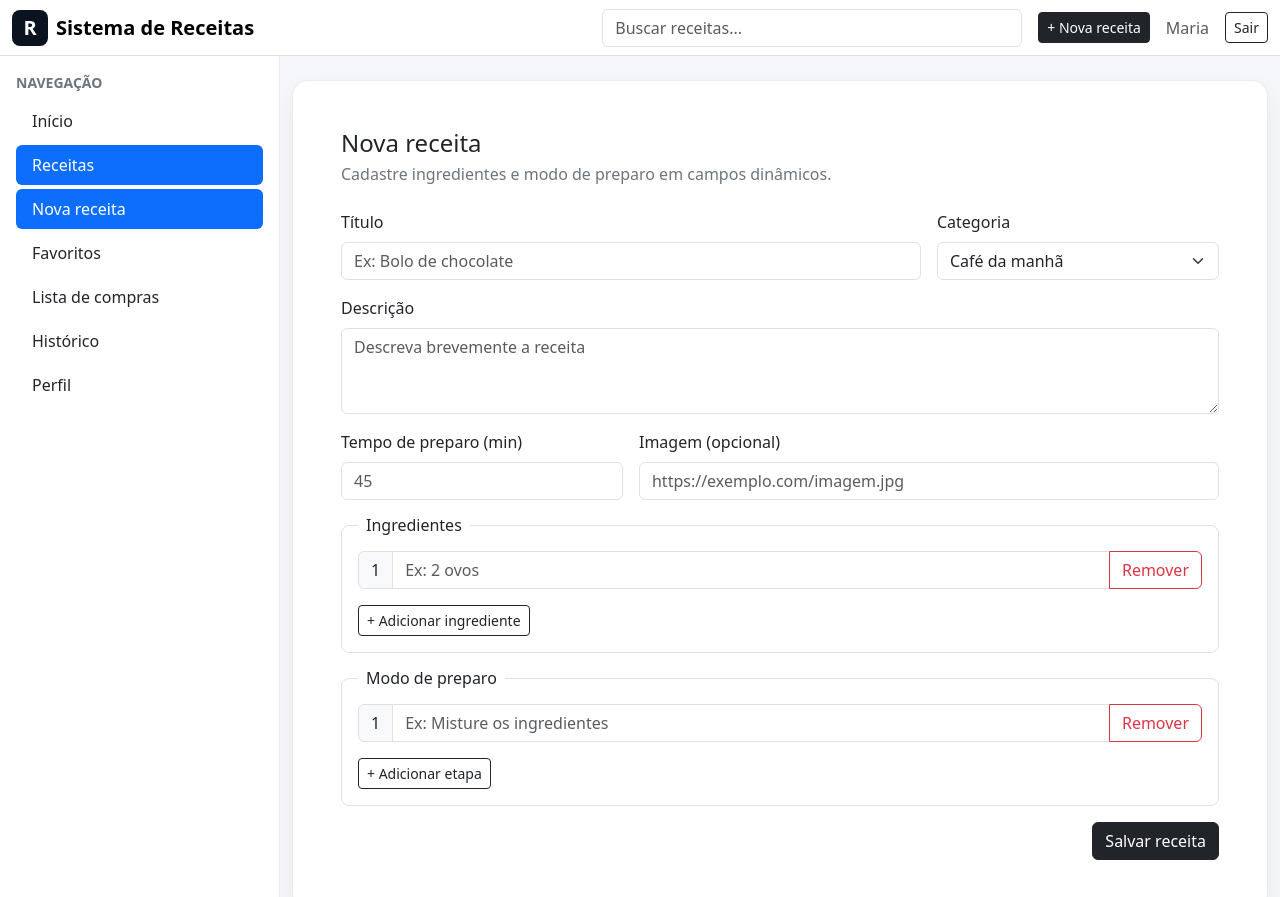
Test: recipe form › shows an error when recipe creation fails
The width and height of the screenshot is (1280, 897).
Type "Bolo simples" into the field labelled "Título" at point(631, 261), box [341, 242, 921, 280]
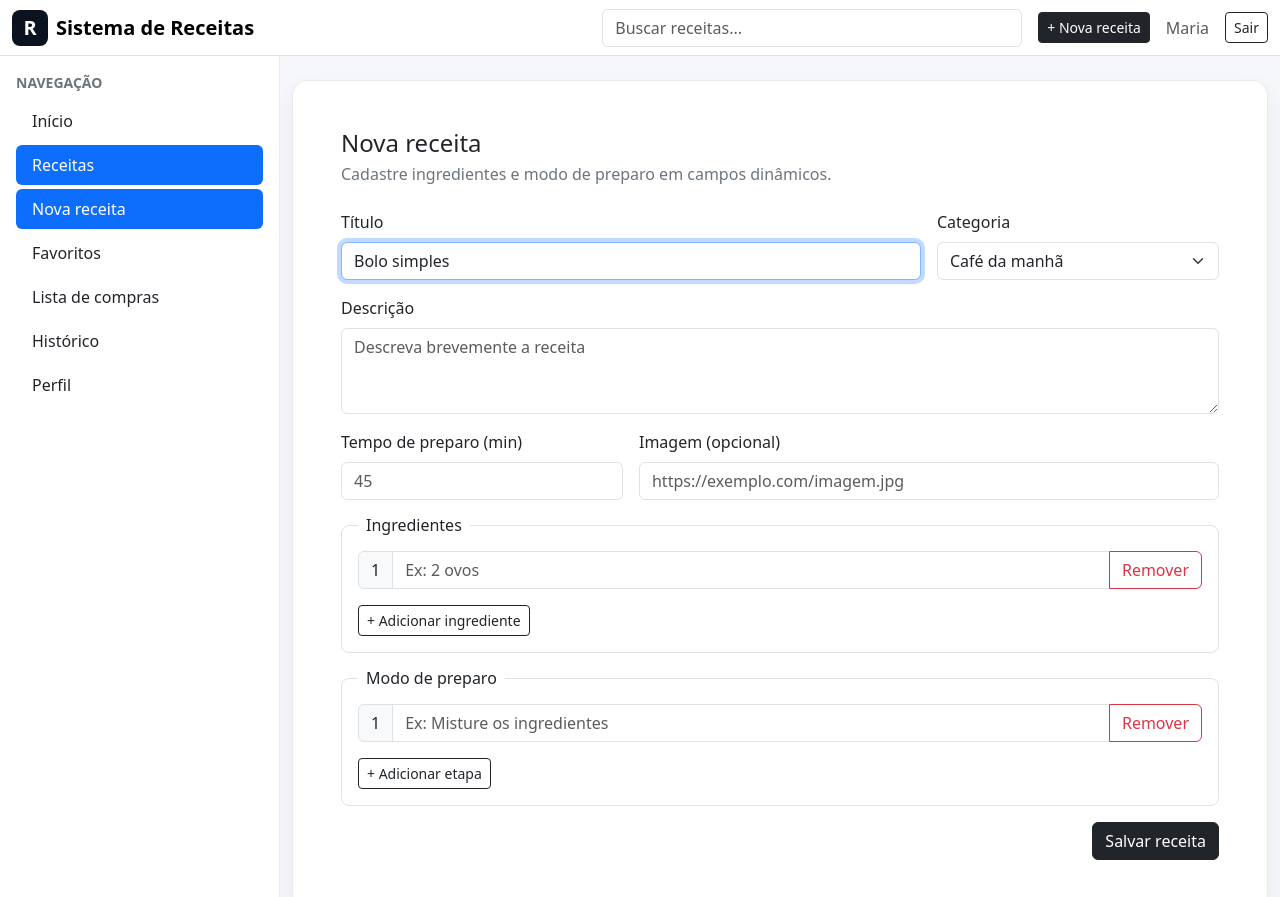
Type "Bolo fácil para o café." into the text box labelled "Descrição" at point(780, 371), box [341, 328, 1219, 414]
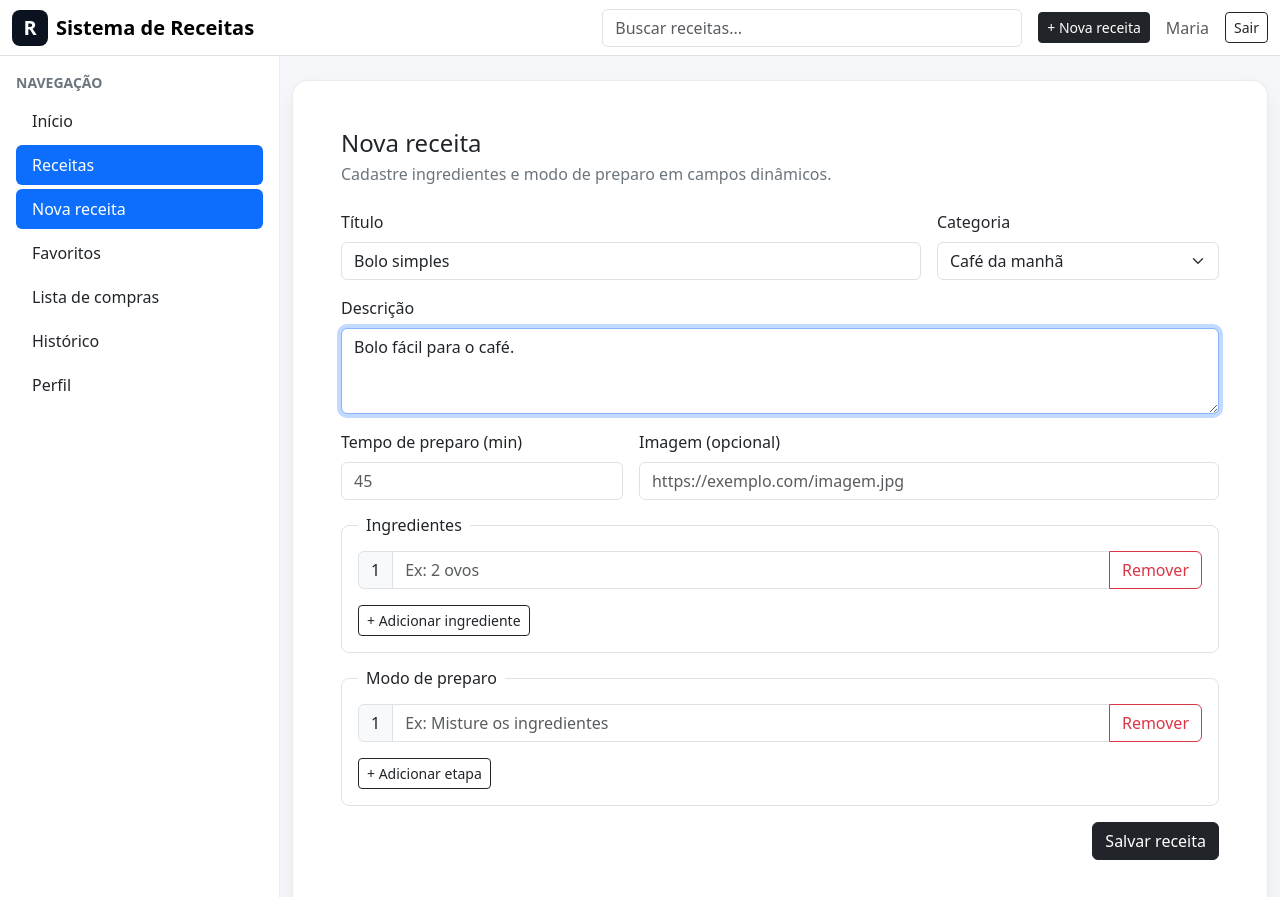
Type "30" into the number field labelled "Tempo de preparo (min)" at point(482, 481), box [341, 462, 623, 500]
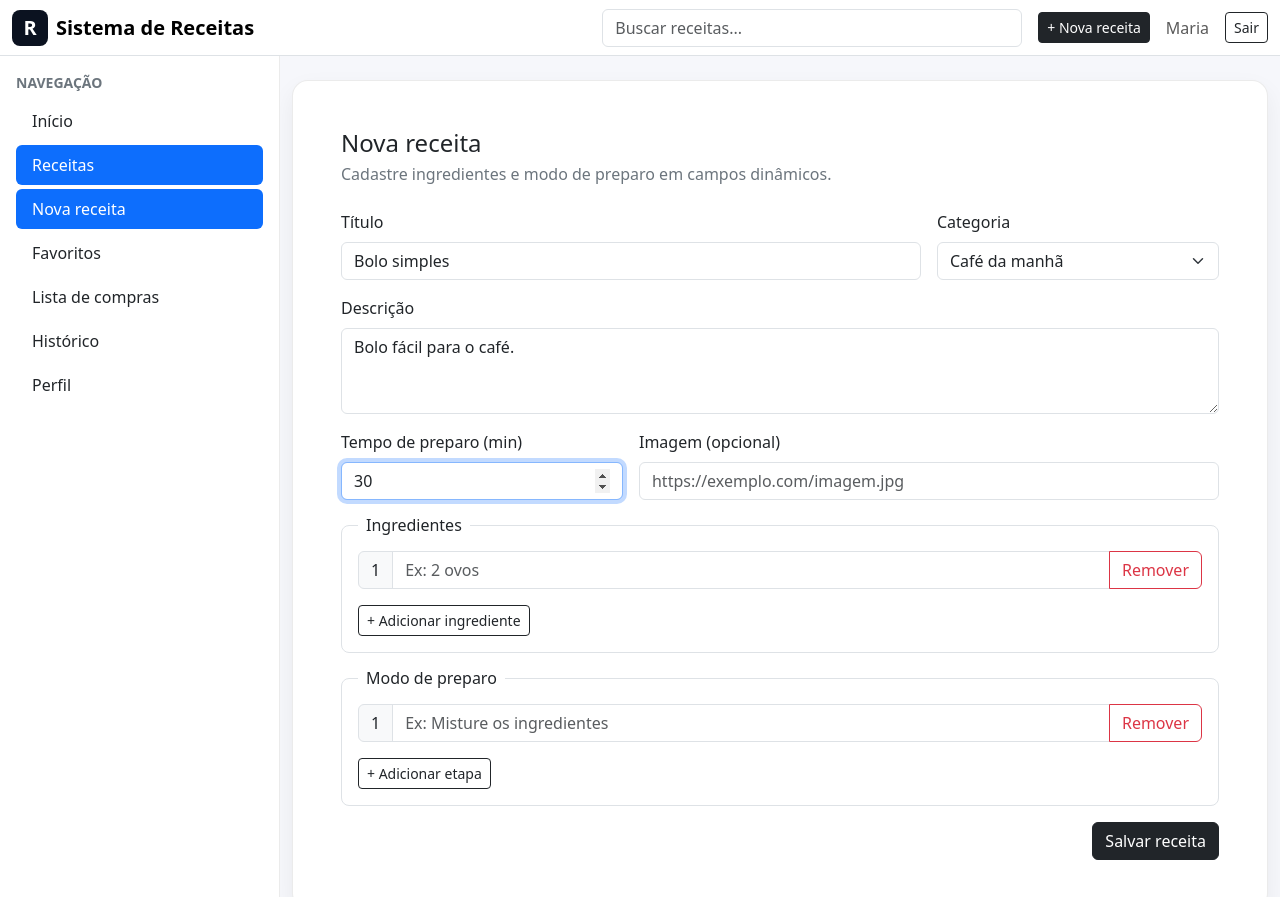
Type "2 ovos" into the field named "ingrediente 1" at point(751, 570), box [392, 551, 1110, 589]
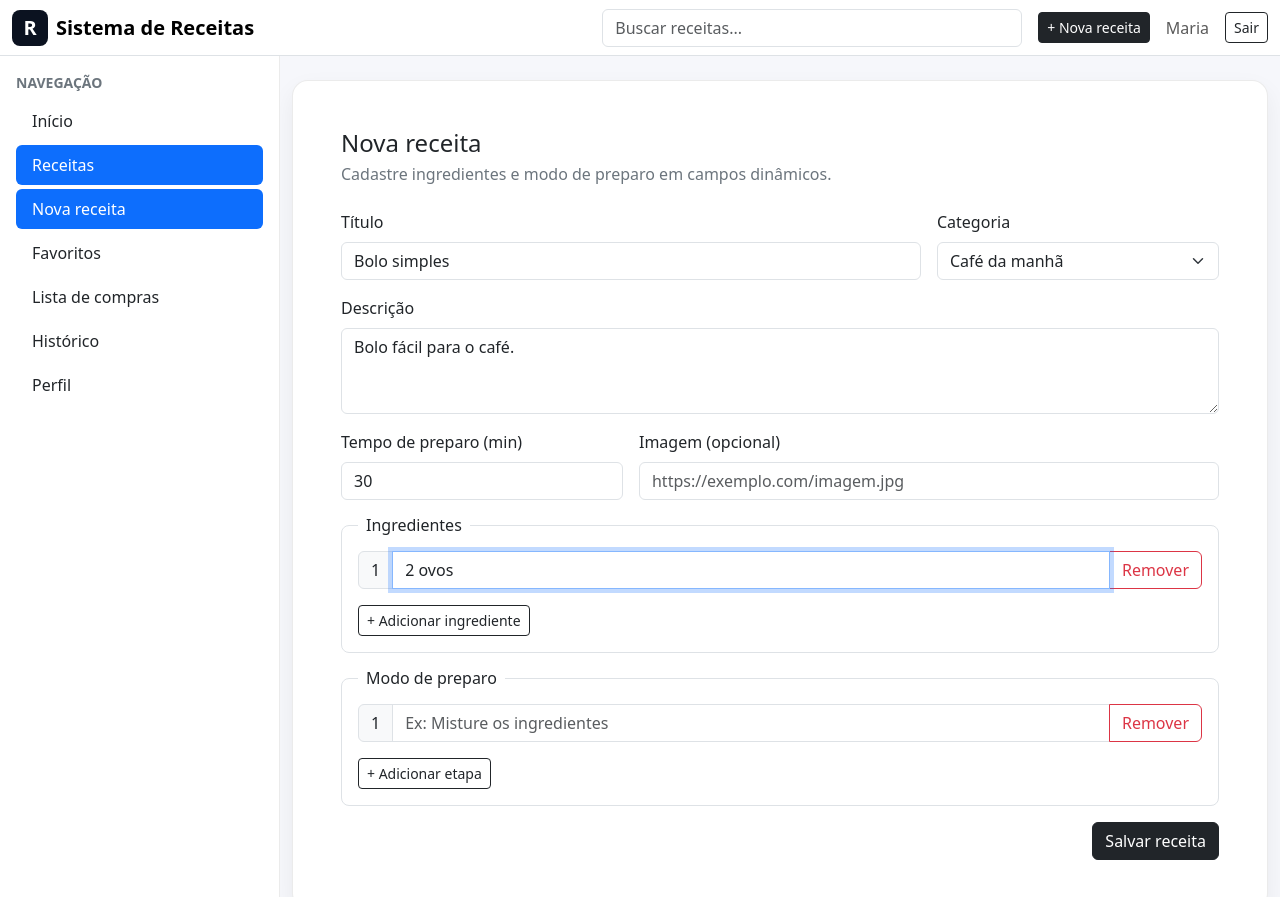
Type "Misture tudo" into the field named "etapa 1" at point(751, 723), box [392, 704, 1110, 742]
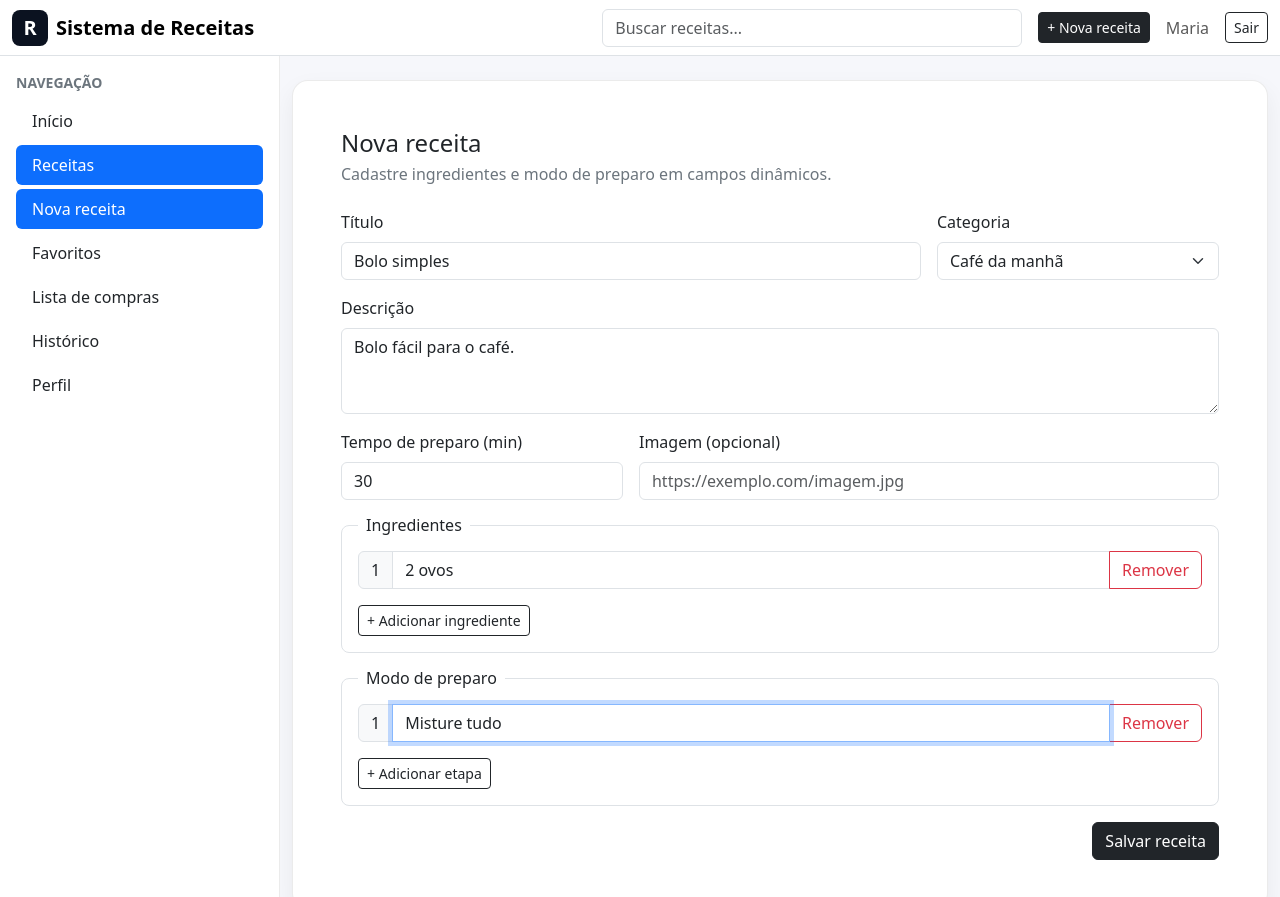
Click the button "Salvar receita" at point(1156, 841), box [1092, 822, 1219, 860]
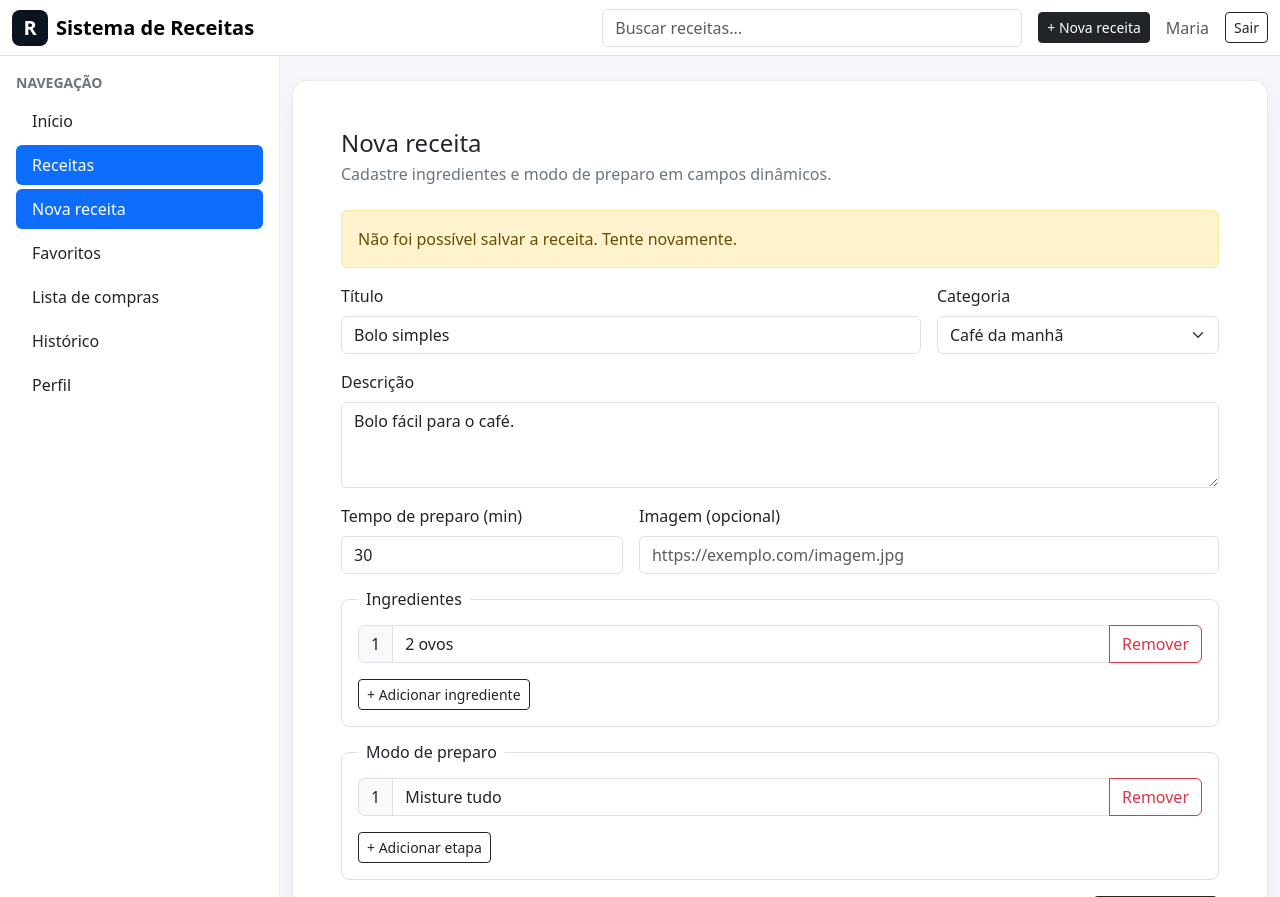
Now the message shows "Não foi possível salvar a receita", box [358, 228, 737, 250]
